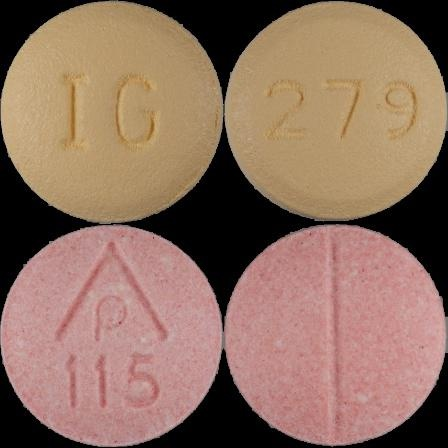33261-400: (0, 0, 224, 224)
